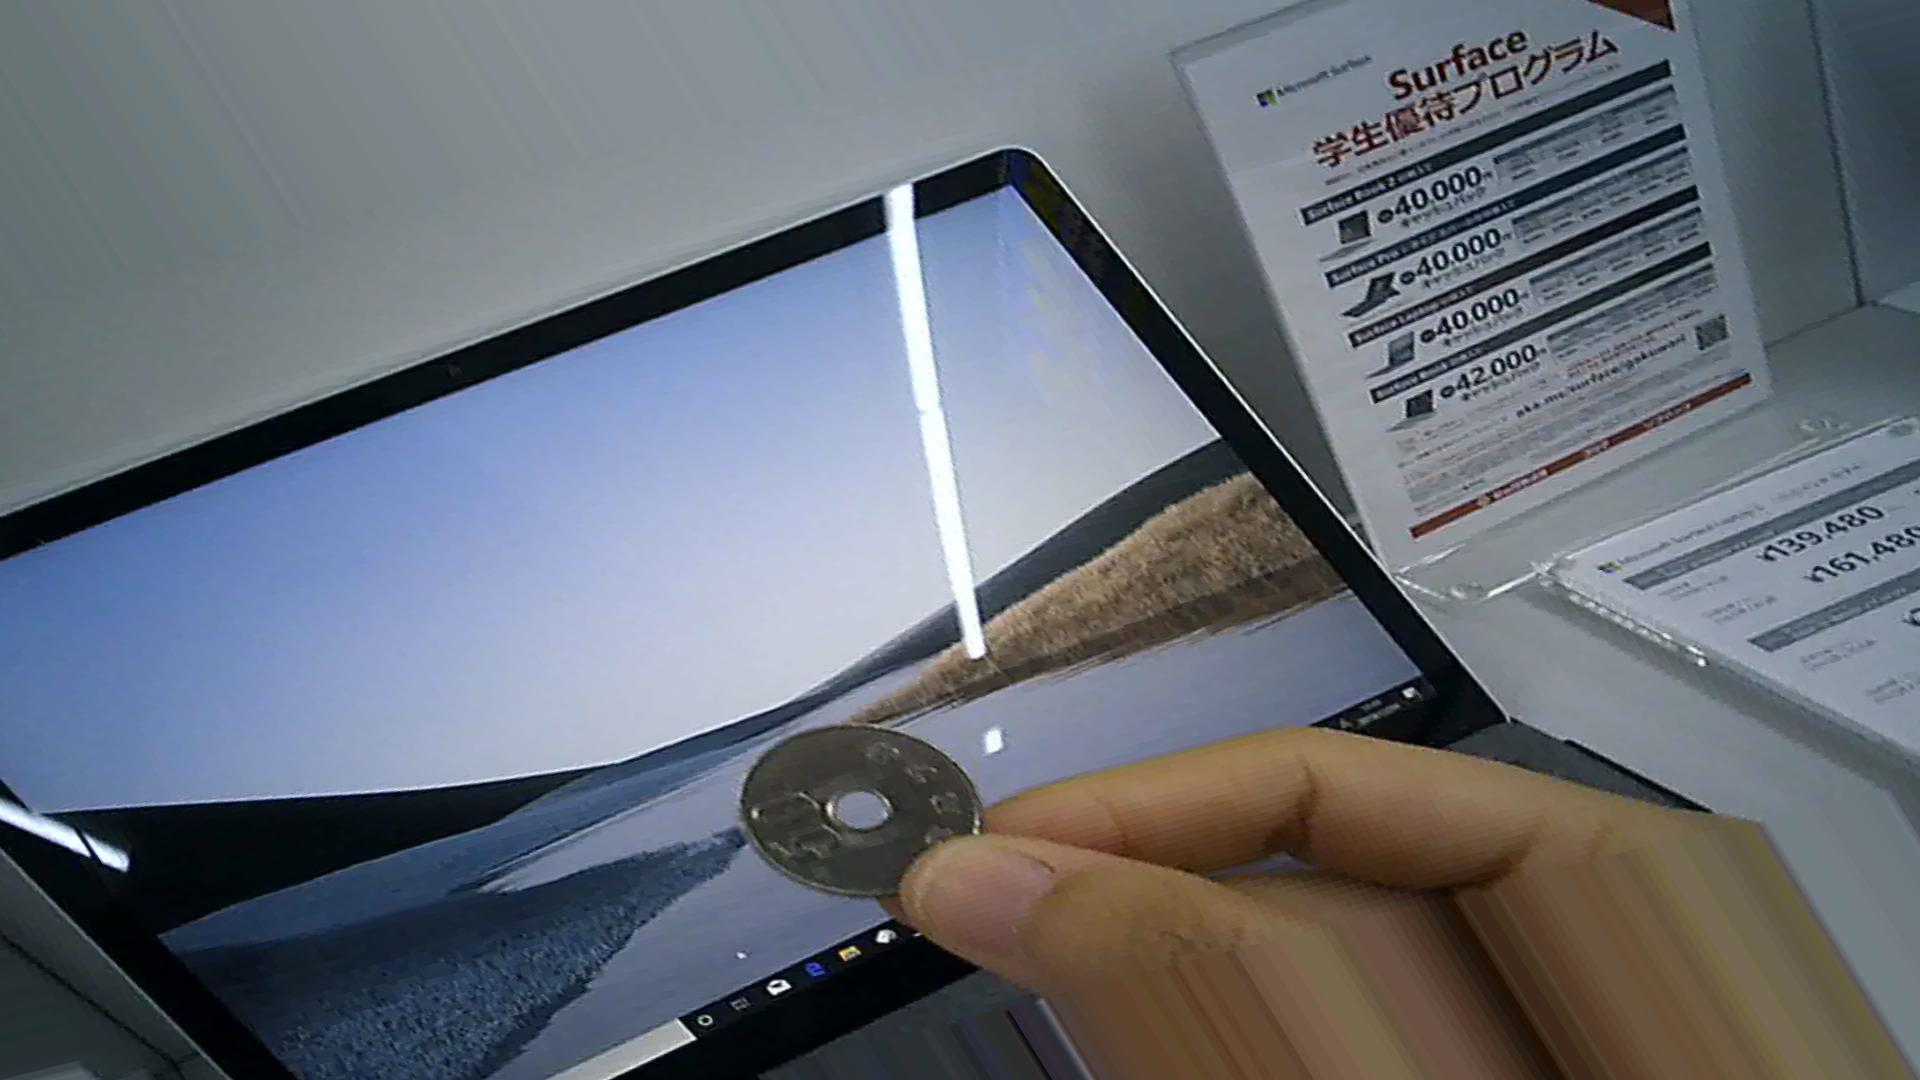50 Yen: (733, 724, 992, 911)
